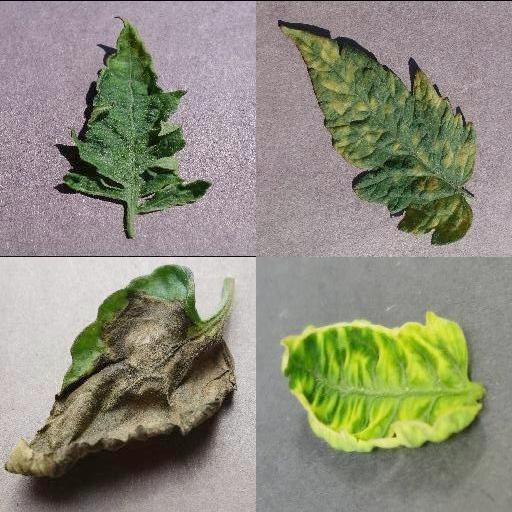Late Blight: (1, 264, 235, 478)
Leaf Mold: (279, 24, 477, 243)
Mosaic Virus: (64, 15, 214, 215)
Yellow Leaf Curl Virus: (279, 310, 485, 452)
